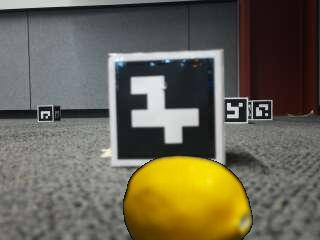lemon: (125, 155, 252, 238)
